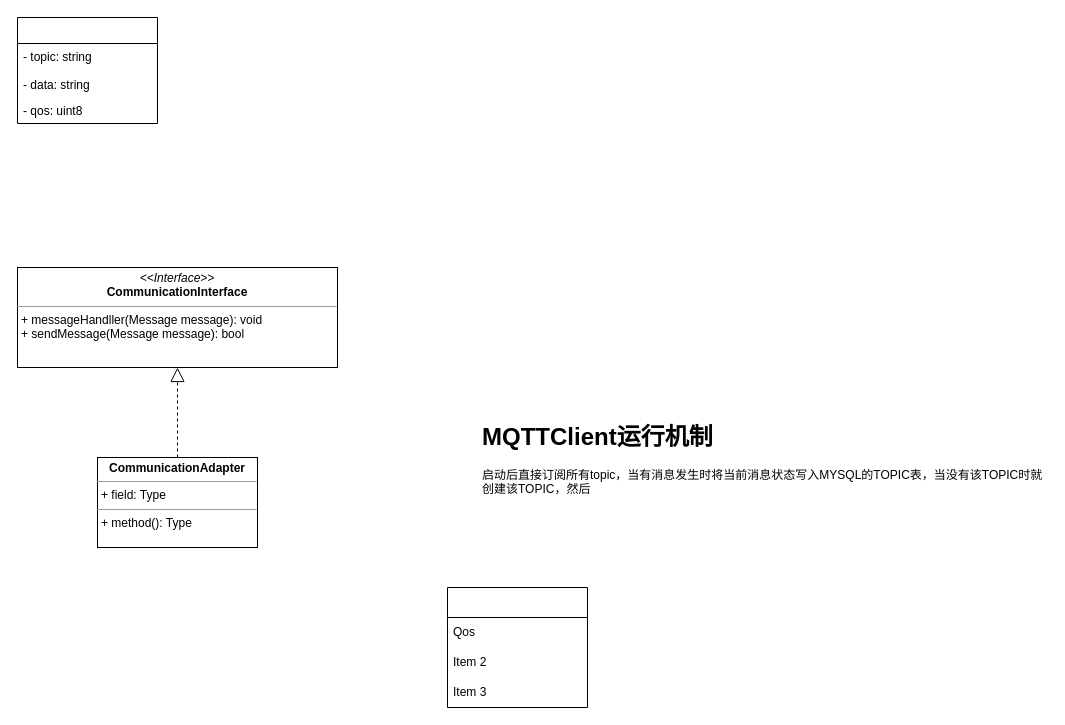
Some shapes in this 1065 by 725 pixel diagram are drawn without their labels. Each missing label, with the box of its shape:
Message: (16, 16, 158, 124)
Topic: (446, 586, 588, 708)
